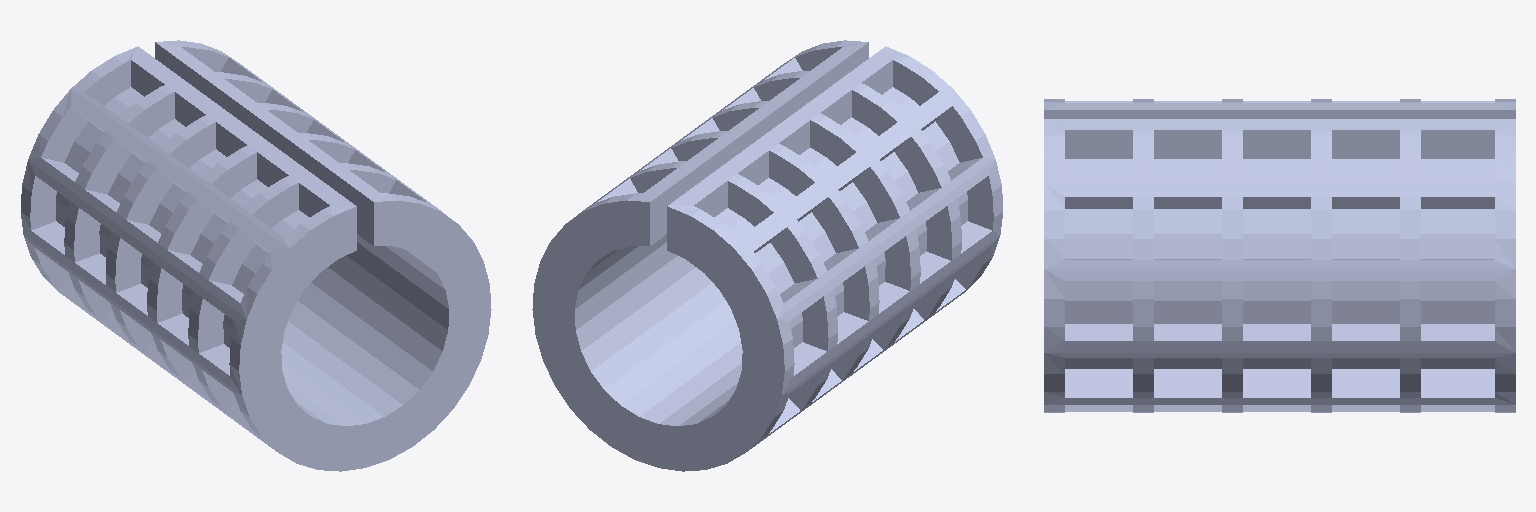
robot.urdf — Part1.SLDPRT:
<?xml version="1.0" encoding="utf-8"?>
<!-- This URDF was automatically created by SolidWorks to URDF Exporter! Originally created by [author] ([email redacted]) 
     Commit Version: 1.5.1-0-g916b5db  Build Version: 1.5.7152.31018
     For more information, please see http://wiki.ros.org/sw_urdf_exporter -->
<robot
  name="Part1.SLDPRT">
  <link
    name="Plastic_Tube.SLDPRT">
    <inertial>
      <origin
        xyz="-1.3687E-06 -0.022533 -9.73869999999986E-05"
        rpy="0 0 0" />
      <mass
        value="0.014" />
      <inertia
        ixx="2.831E-06"
        ixy="1.42849999999999E-12"
        ixz="2.0067E-10"
        iyy="1.6895E-06"
        iyz="2.39270000000071E-10"
        izz="2.8414E-06" />
    </inertial>
    <visual>
      <origin
        xyz="0 0 0"
        rpy="1.5707963267949 0 0" />
      <geometry>
        <mesh
          filename="package://suii_description/Field/objects/meshes/plastic_tube.STL" />
      </geometry>
      <material
        name="">
        <color
          rgba="0.79216 0.81961 0.93333 1" />
        <texture
          filename="package://suii_description/Field/objects/textures/" />
      </material>
    </visual>
    <collision>
      <origin
        xyz="0 0 0"
        rpy="1.5707963267949 0 0" />
      <geometry>
        <mesh
          filename="package://suii_description/Field/objects/meshes/plastic_tube.STL" />
      </geometry>
    </collision>
  </link>
</robot>

--- Render facts (derived) ---
Views: 3 orthographic renders of the robot side by side, from view 1: azimuth 30°, elevation 25°; view 2: azimuth 150°, elevation 25°; view 3: azimuth 270°, elevation 25°.
Robot: Part1.SLDPRT — 1 links, 0 joints (none); root link Plastic_Tube.SLDPRT; default pose: every joint at zero.
Links seen in each view (by area): view 1: Plastic_Tube.SLDPRT; view 2: Plastic_Tube.SLDPRT; view 3: Plastic_Tube.SLDPRT.
Link boxes in pixels (left/top/right/bottom): Plastic_Tube.SLDPRT: left=21, top=40, right=491, bottom=471; Plastic_Tube.SLDPRT: left=532, top=40, right=1002, bottom=471; Plastic_Tube.SLDPRT: left=1044, top=99, right=1515, bottom=412.
Bounding box of the posed robot: 0.03 × 0.045 × 0.03 m (x, y, z).
1 mesh visuals loaded from 1 distinct referenced files (1 binary STL).
